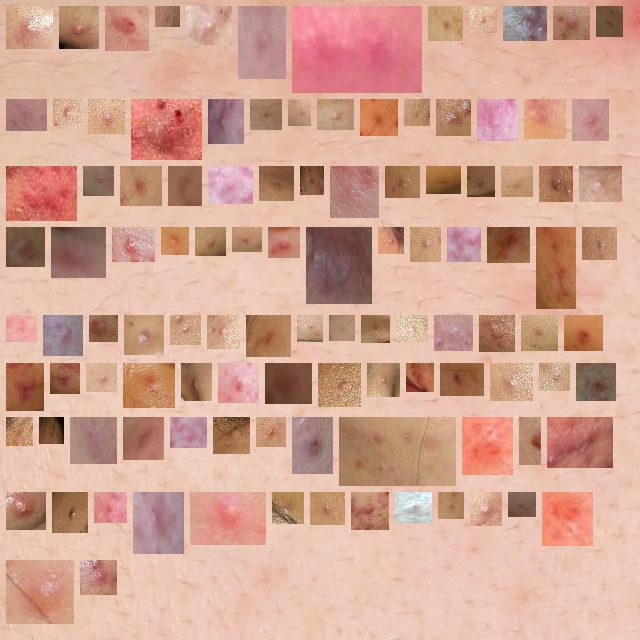papule: (300, 14, 414, 85), (347, 425, 448, 478), (314, 235, 364, 296), (14, 568, 66, 616), (139, 107, 194, 152), (198, 500, 258, 537), (14, 174, 69, 213), (246, 14, 278, 71), (555, 425, 605, 460), (141, 500, 176, 546), (544, 235, 568, 301), (470, 425, 505, 467), (550, 496, 585, 538), (59, 235, 98, 270), (338, 174, 371, 210), (131, 371, 167, 400), (300, 425, 325, 466), (78, 425, 109, 456), (14, 14, 45, 41), (113, 14, 141, 43), (273, 371, 304, 396), (326, 371, 353, 399), (254, 323, 283, 349), (14, 371, 36, 403), (194, 14, 224, 37), (131, 425, 156, 452), (485, 107, 510, 133), (67, 14, 91, 41), (216, 174, 245, 196), (532, 107, 558, 131), (128, 174, 154, 198), (51, 323, 75, 348), (226, 371, 251, 395), (498, 371, 525, 393), (216, 107, 236, 136), (132, 323, 156, 347), (14, 235, 37, 259), (580, 107, 601, 133), (587, 174, 614, 194), (495, 235, 522, 255), (511, 14, 539, 33), (584, 371, 608, 393), (14, 500, 38, 522), (120, 235, 147, 254), (60, 500, 80, 525), (359, 500, 381, 522), (448, 371, 476, 388), (368, 107, 390, 128), (442, 323, 465, 343), (572, 323, 595, 343), (221, 425, 242, 446), (176, 174, 194, 198), (487, 323, 507, 344), (529, 323, 550, 343), (527, 425, 540, 457), (14, 107, 39, 123), (96, 107, 117, 126), (444, 107, 463, 128), (88, 568, 109, 587), (561, 14, 582, 32), (436, 14, 455, 33), (267, 174, 286, 193), (547, 174, 565, 194), (455, 235, 473, 254), (189, 371, 204, 393), (590, 235, 609, 252), (318, 500, 337, 517), (325, 107, 346, 122), (178, 425, 199, 440), (403, 500, 424, 515), (215, 323, 232, 341), (375, 371, 392, 389), (393, 174, 412, 190), (478, 500, 494, 518), (418, 235, 433, 254), (280, 500, 296, 516), (102, 500, 119, 515), (258, 107, 274, 122), (509, 174, 525, 189), (276, 235, 292, 250), (434, 174, 453, 186), (91, 174, 106, 188), (178, 323, 193, 337), (58, 371, 72, 386), (264, 425, 278, 439), (203, 235, 218, 248), (94, 371, 109, 384), (475, 174, 487, 189), (547, 371, 562, 383), (404, 323, 420, 334), (604, 14, 615, 29), (14, 323, 29, 334), (369, 323, 382, 335), (414, 371, 426, 384), (169, 235, 181, 247), (61, 107, 74, 118), (97, 323, 110, 334), (14, 425, 25, 438), (477, 14, 489, 25), (240, 235, 254, 244), (412, 107, 422, 118), (386, 235, 396, 246), (305, 323, 315, 334), (446, 500, 456, 511), (516, 500, 528, 509), (308, 174, 316, 187), (337, 323, 347, 333), (47, 425, 56, 436), (296, 107, 303, 118), (163, 14, 172, 19)
